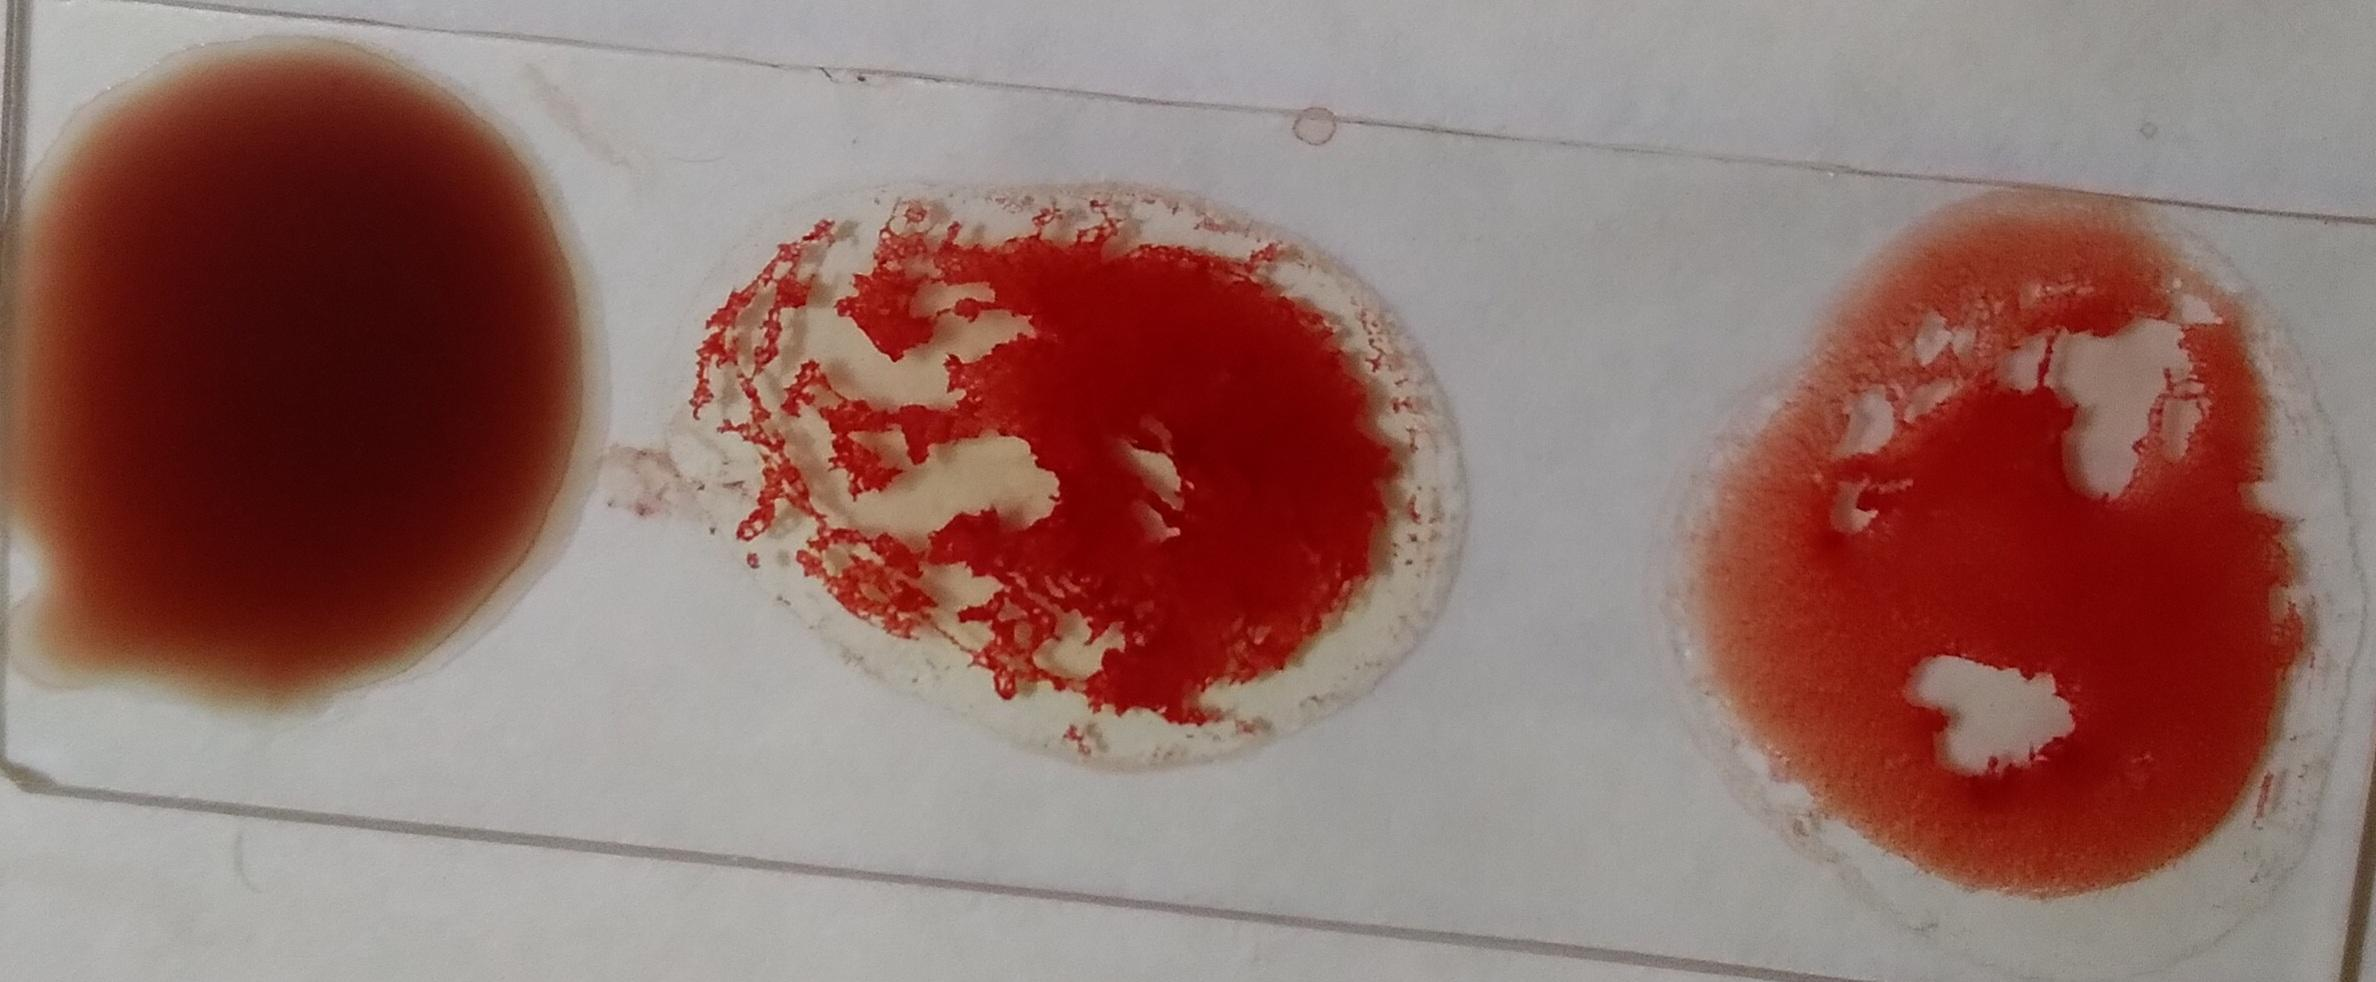B: (703, 170, 1458, 773)
D: (1673, 189, 2365, 940)
